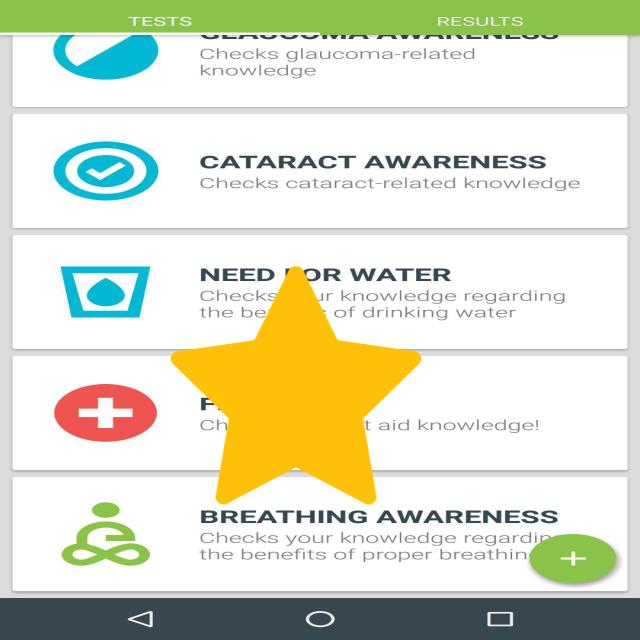forced continuity: (171, 266, 421, 505)
